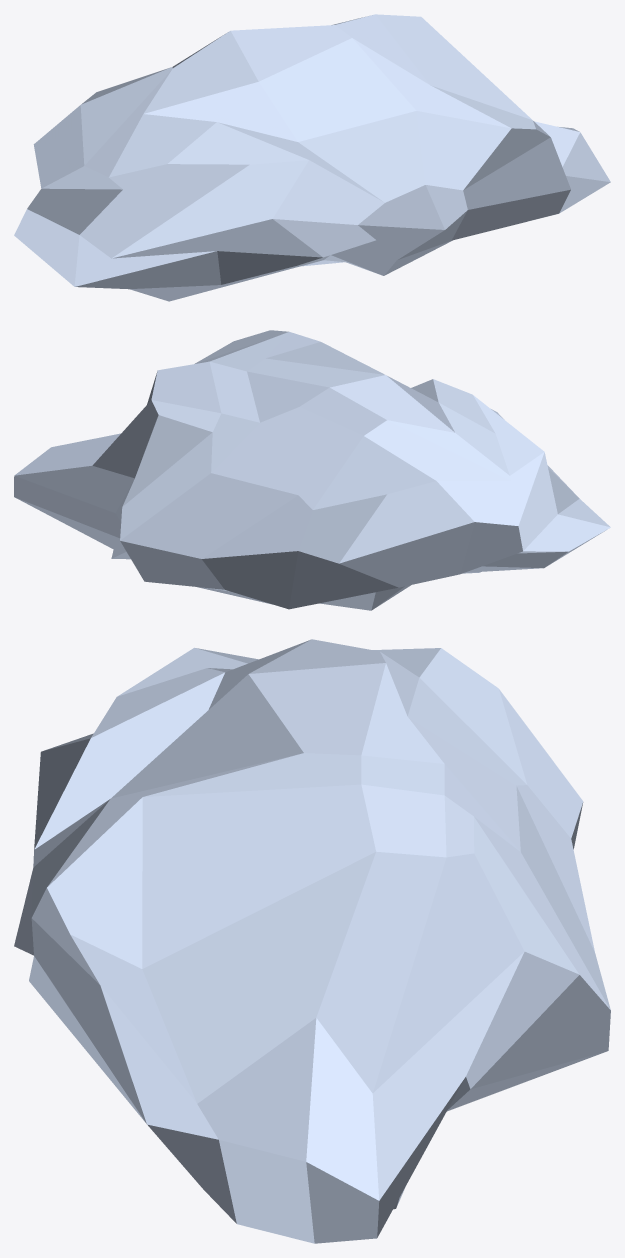
File: cloud2.gltf
3 views of the same model, one above another, from view 1: azimuth 30°, elevation 25°; view 2: azimuth 150°, elevation 25°; view 3: azimuth 270°, elevation 25° (orthographic). The views are drawn at different scales.
Visible parts, largest first — view 1: Cube; view 2: Cube; view 3: Cube.
Boxes of the visible parts, x1,y1,x2,y2 form: Cube: (14, 14, 610, 301); Cube: (14, 330, 610, 610); Cube: (14, 639, 610, 1243).
Bounding box in the file's own units: 1.65 × 0.6598 × 0.9488.
